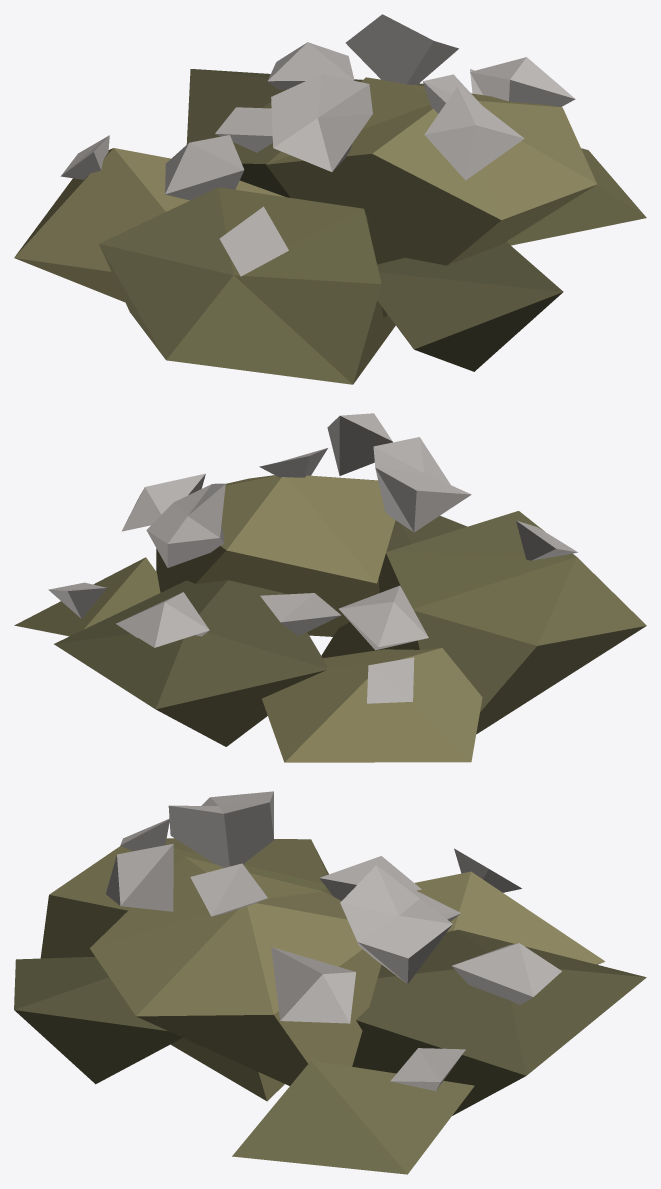
File: SM_Env_Flowers_03.fbx
3 renders of one model, top to bottom at view 1: azimuth 30°, elevation 25°; view 2: azimuth 150°, elevation 25°; view 3: azimuth 270°, elevation 25°, orthographic. The views are drawn at different scales.
Visible parts, largest first — view 1: SM_Env_Flowers_03; view 2: SM_Env_Flowers_03; view 3: SM_Env_Flowers_03.
Part boxes in pixels (x1,y1,x2,y2): SM_Env_Flowers_03: [14, 14, 646, 384]; SM_Env_Flowers_03: [14, 413, 646, 762]; SM_Env_Flowers_03: [14, 791, 646, 1174].
Bounding box in the file's own units: 95.98 × 48.13 × 93.05.
